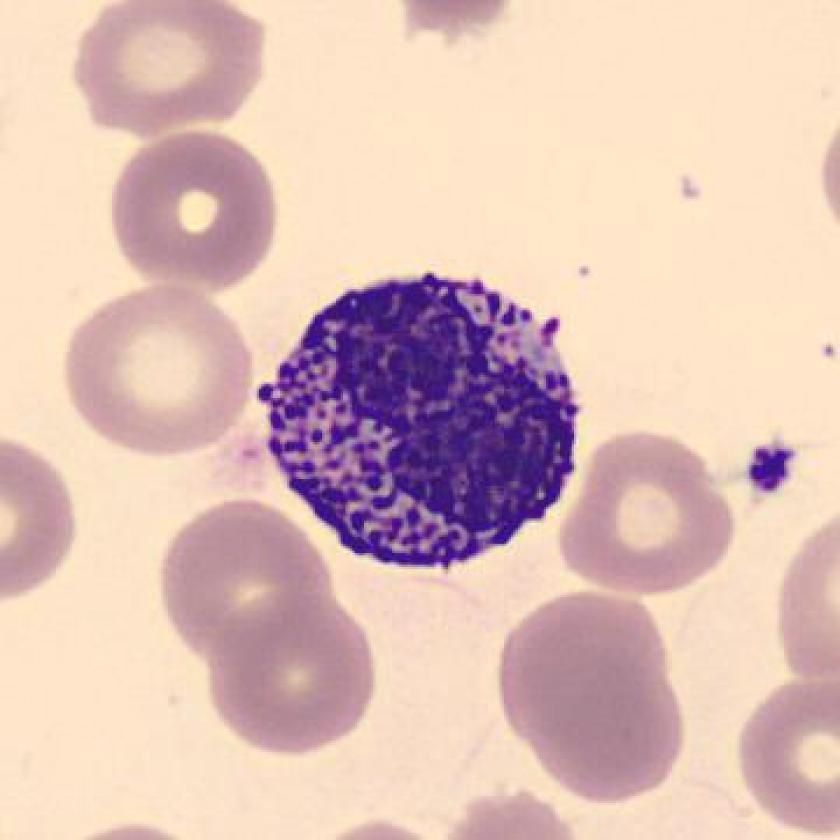basophil: (253, 262, 589, 568)
